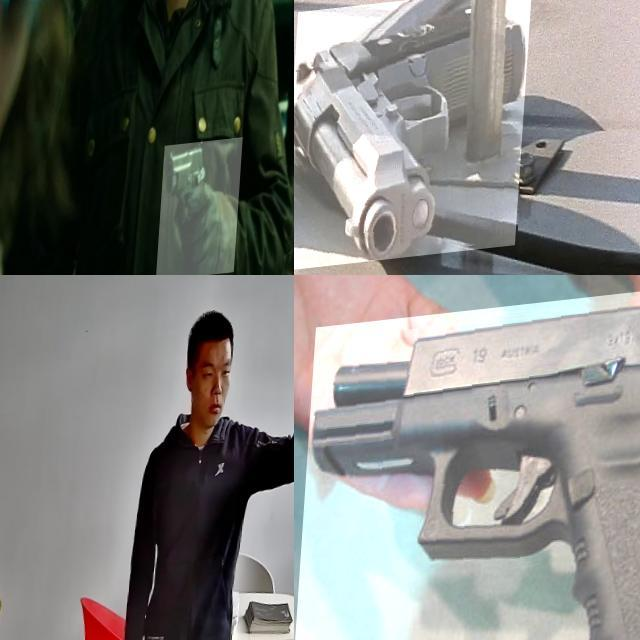gun-knife-thesis - v11 Yolov5 augmented: (294, 280, 640, 640), (294, 0, 535, 275), (163, 147, 249, 275)
